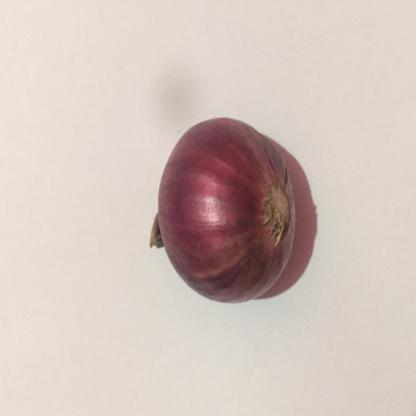onion: (134, 103, 311, 324)
